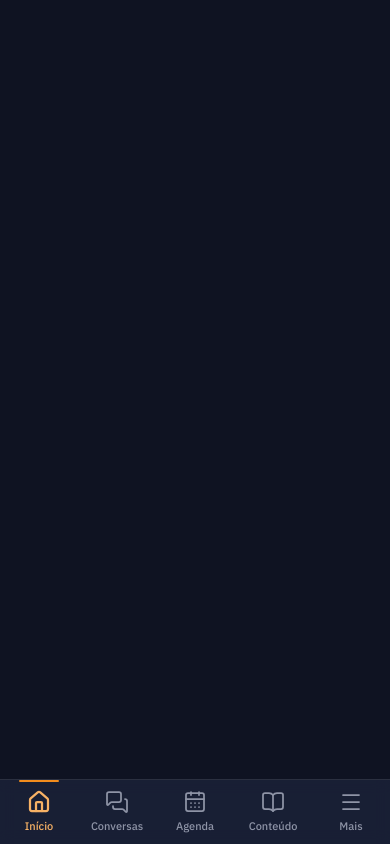
Scenario: BottomNav › folha Mais do atendente: só Unidades e Ajustes
Click the button "Mais".
click(351, 812)  # box [312, 780, 389, 843]
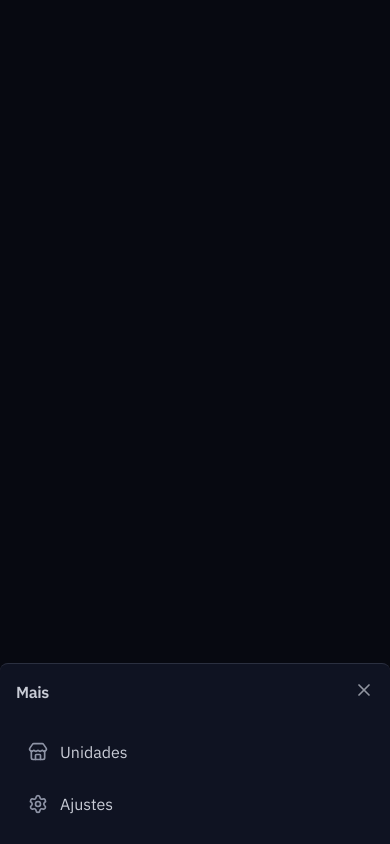
Expected: the links read "Unidades", "Ajustes", in this order, [28, 742, 128, 762]; [28, 794, 113, 814]
